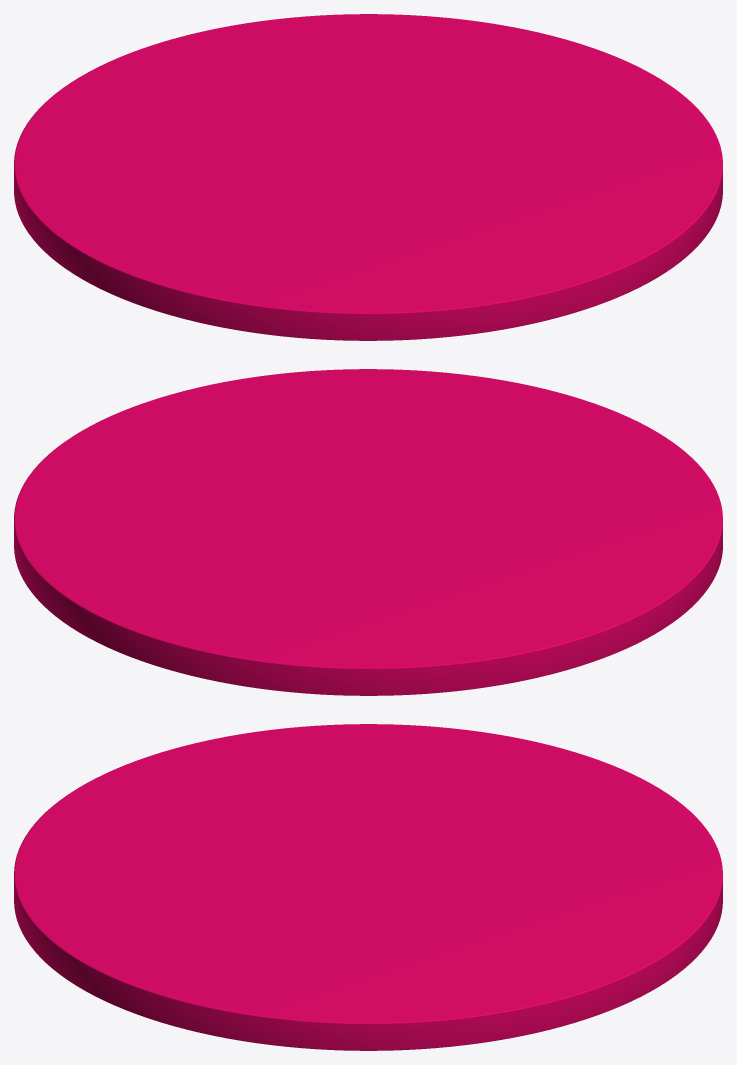
File: rotator_Platform_base.fbx
3 views of the same model, one above another, from view 1: azimuth 30°, elevation 25°; view 2: azimuth 150°, elevation 25°; view 3: azimuth 270°, elevation 25° (orthographic).
Visible parts, largest first — view 1: Cylinder; view 2: Cylinder; view 3: Cylinder.
Boxes of the visible parts, x1,y1,x2,y2 form: Cylinder: [14, 14, 722, 340]; Cylinder: [14, 369, 722, 695]; Cylinder: [14, 724, 722, 1050].
Bounding box in the file's own units: 5518 × 242 × 5519.
